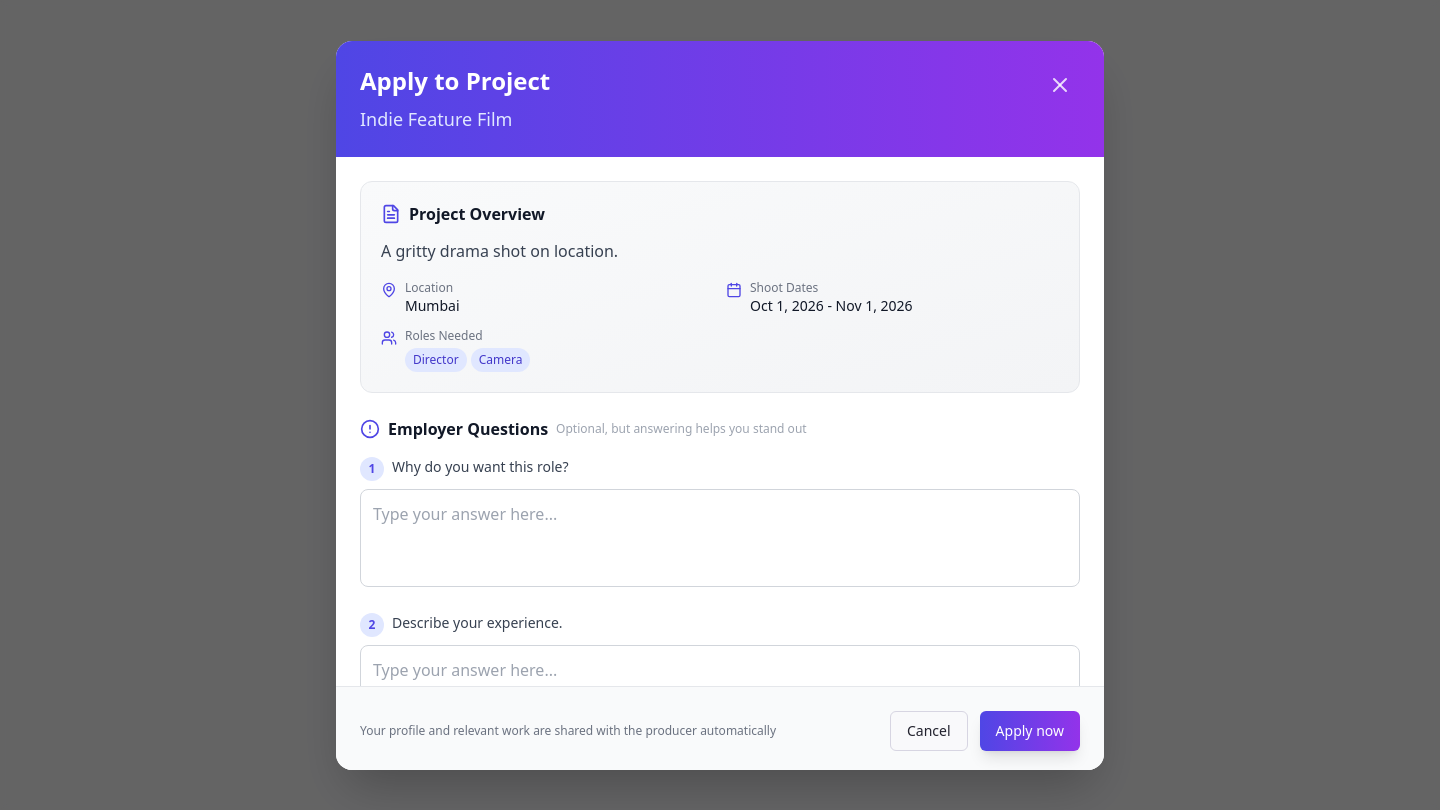
Test: ApplyModal › applies in one click without answering the optional questions
The width and height of the screenshot is (1440, 810).
Click the button "Apply now" at (1030, 730), box left=980, top=710, right=1080, bottom=750
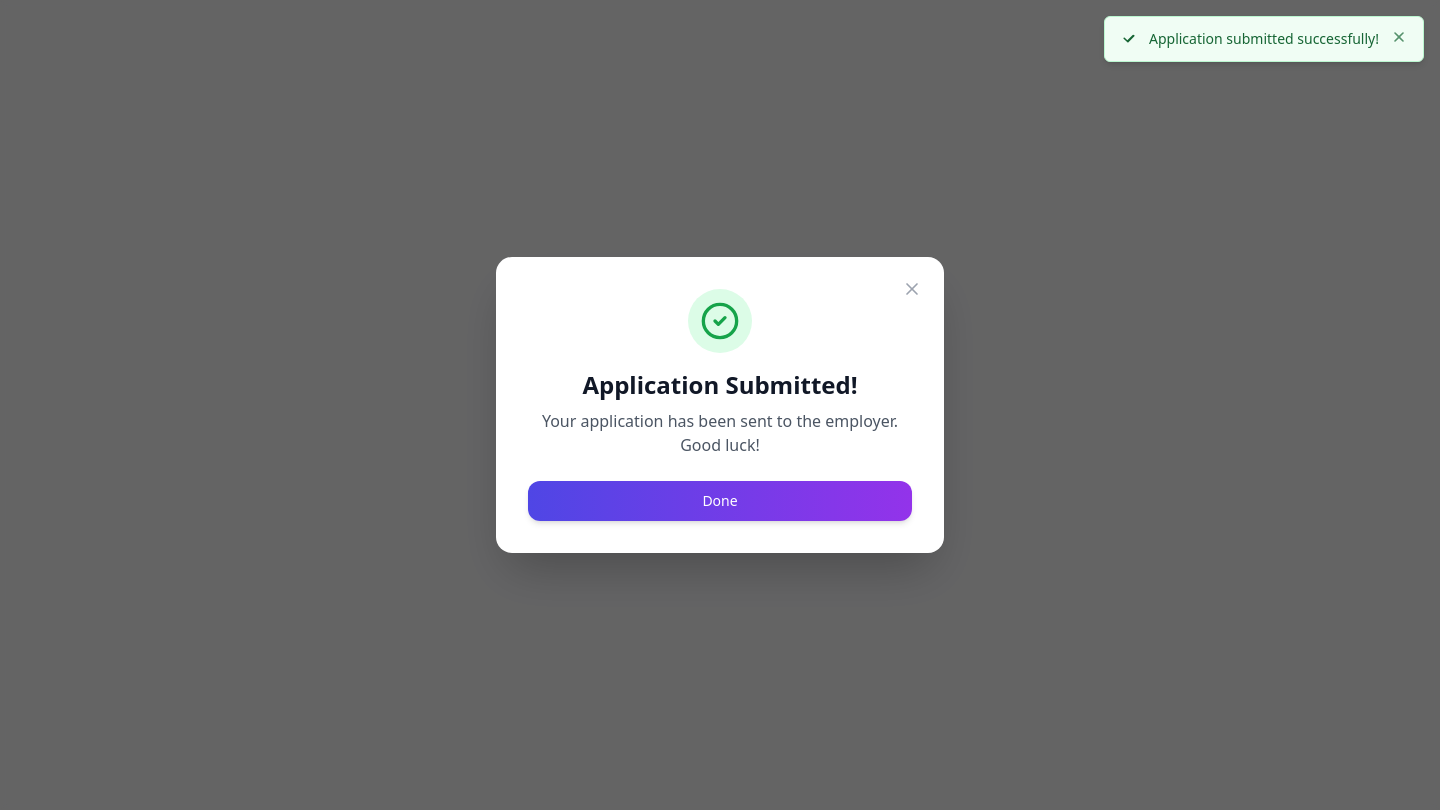
Expected: the heading "Application Submitted!" is shown, left=582, top=368, right=858, bottom=401
